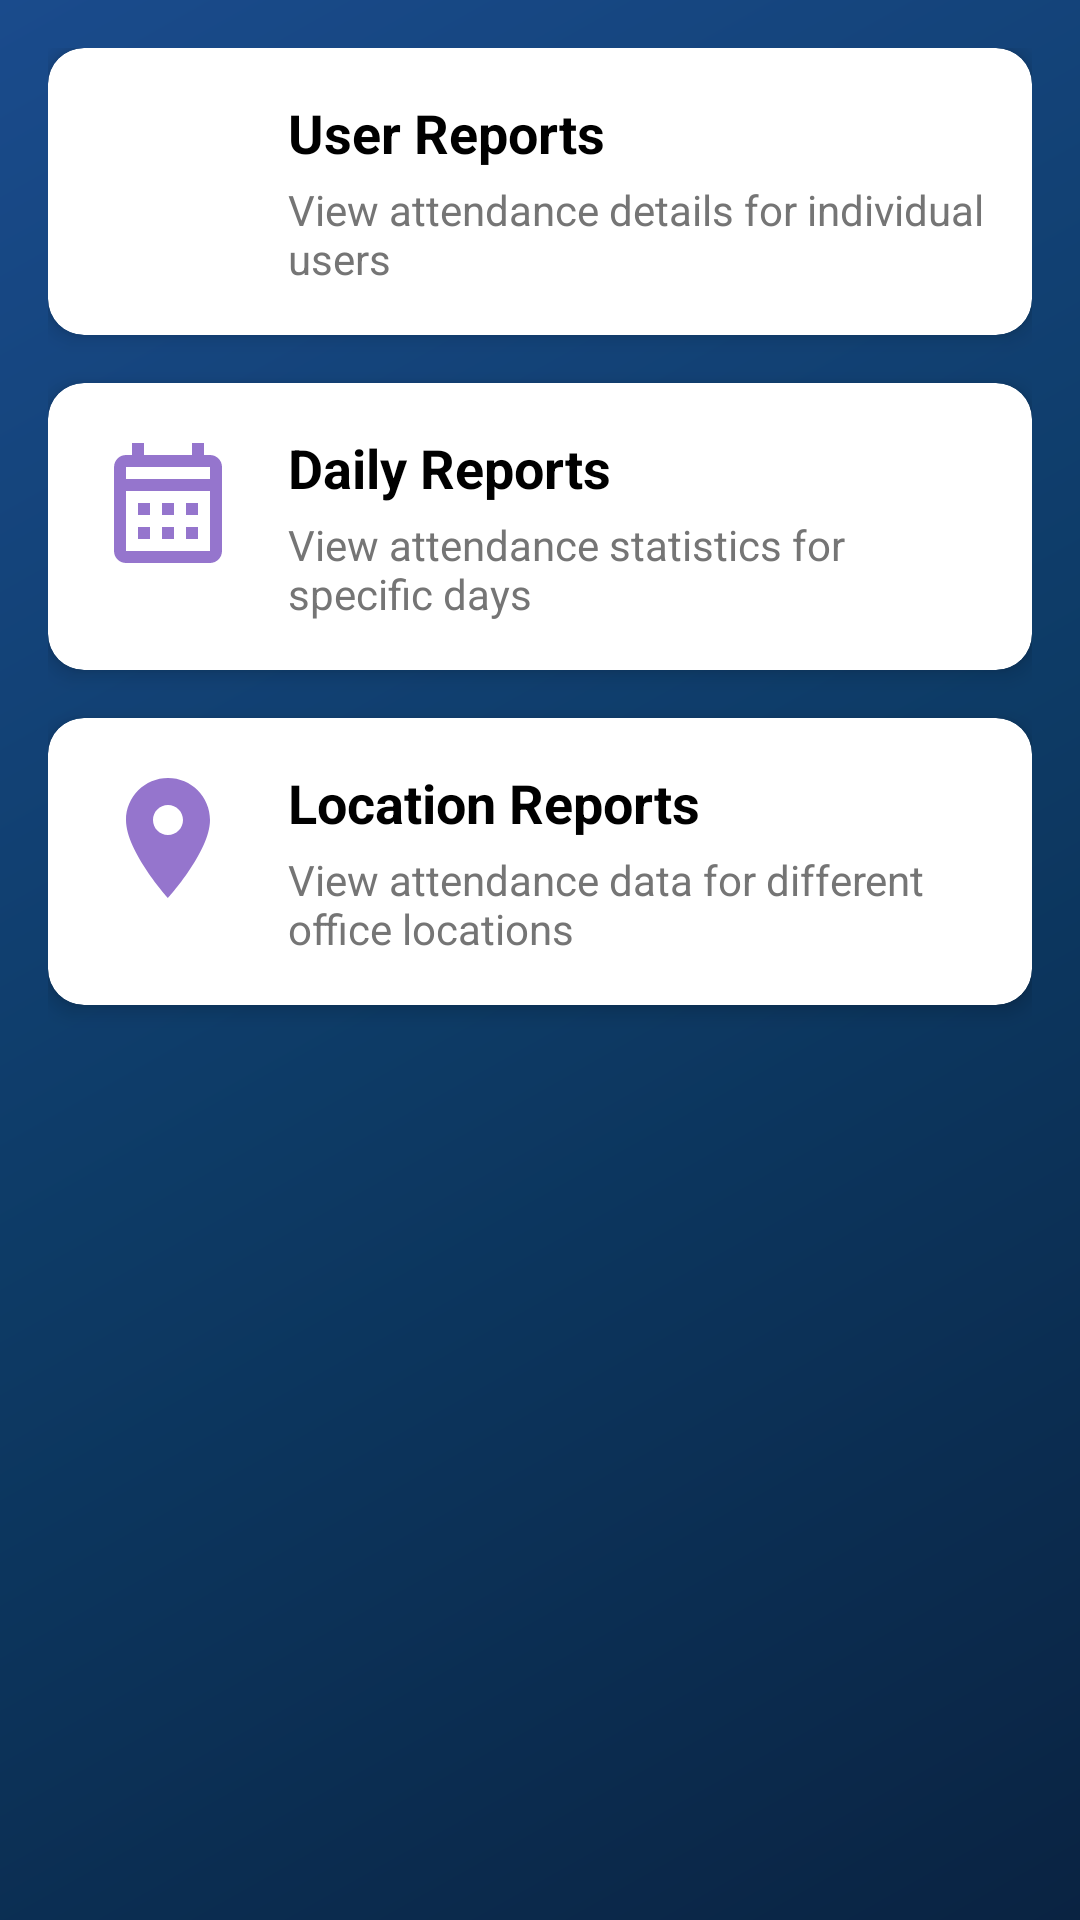

Icon bounding boxes for this 1080*1920 phone screenshot, format (x1, y1, x2, y2):
calendar: (114, 443, 222, 563)
